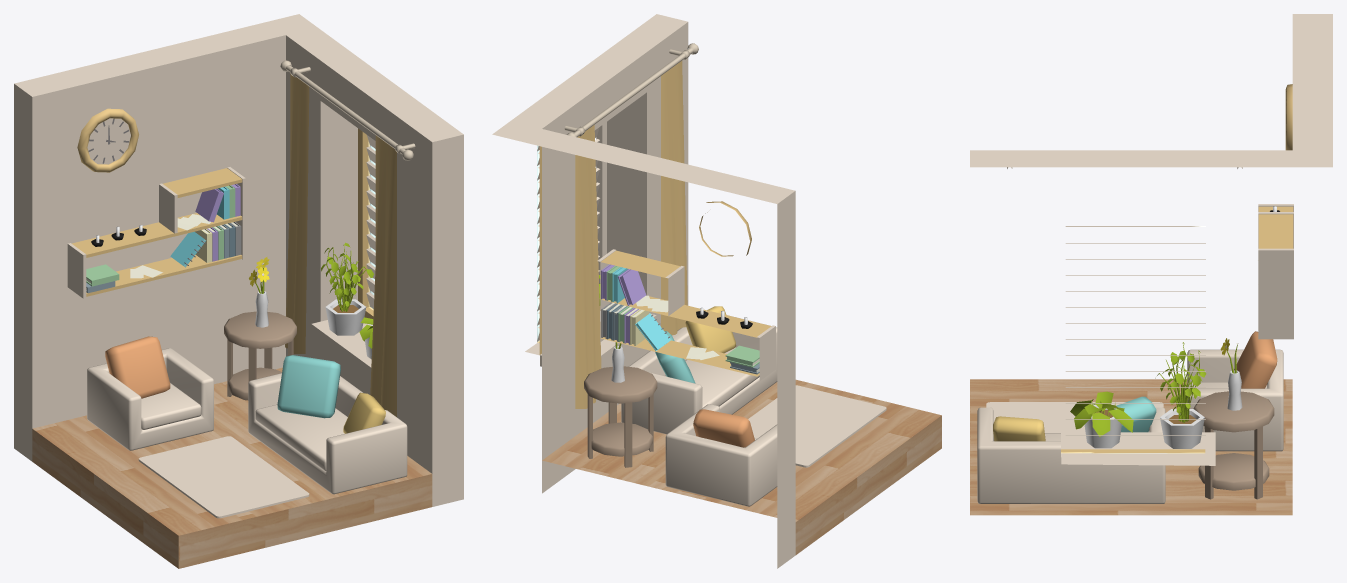
The model's file is kikiroom02.glb.
3 renders of one model, left to right at view 1: azimuth 30°, elevation 25°; view 2: azimuth 150°, elevation 25°; view 3: azimuth 270°, elevation 25°, orthographic. The views are drawn at different scales.
Visible parts, largest first — view 1: wall, floor, sofa01, curtain01, shelf01, sofa02, Catpet01, window01, table01, clock; view 2: wall, floor, curtain01, shelf01, sofa02, sofa01, table01, Catpet01, window01; view 3: floor, wall, sofa01, window01, sofa02, table01, shelf01, Catpet01, clock.
Part boxes in pixels (bbox=[...]): wall: bbox=[14, 14, 463, 506]; floor: bbox=[32, 367, 432, 568]; sofa01: bbox=[248, 355, 407, 494]; curtain01: bbox=[280, 60, 415, 416]; shelf01: bbox=[67, 167, 245, 298]; sofa02: bbox=[87, 336, 213, 450]; Catpet01: bbox=[138, 436, 309, 518]; window01: bbox=[311, 128, 375, 378]; table01: bbox=[224, 257, 296, 400]; clock: bbox=[77, 108, 138, 172]; wall: bbox=[492, 14, 795, 568]; floor: bbox=[542, 379, 941, 554]; curtain01: bbox=[564, 43, 698, 408]; shelf01: bbox=[597, 249, 775, 380]; sofa02: bbox=[665, 404, 777, 506]; sofa01: bbox=[621, 306, 777, 434]; table01: bbox=[584, 342, 657, 467]; Catpet01: bbox=[748, 385, 886, 467]; window01: bbox=[537, 122, 656, 366]; floor: bbox=[970, 379, 1292, 515]; wall: bbox=[970, 14, 1332, 465]; sofa01: bbox=[977, 396, 1165, 503]; window01: bbox=[1061, 226, 1215, 457]; sofa02: bbox=[1187, 331, 1283, 451]; table01: bbox=[1193, 338, 1274, 499]; shelf01: bbox=[1258, 204, 1293, 339]; Catpet01: bbox=[986, 402, 1163, 432]; clock: bbox=[1285, 84, 1292, 150].
Size of the model in its own units: 94.97 by 108 by 88.58.
1 material, 1 textured.
